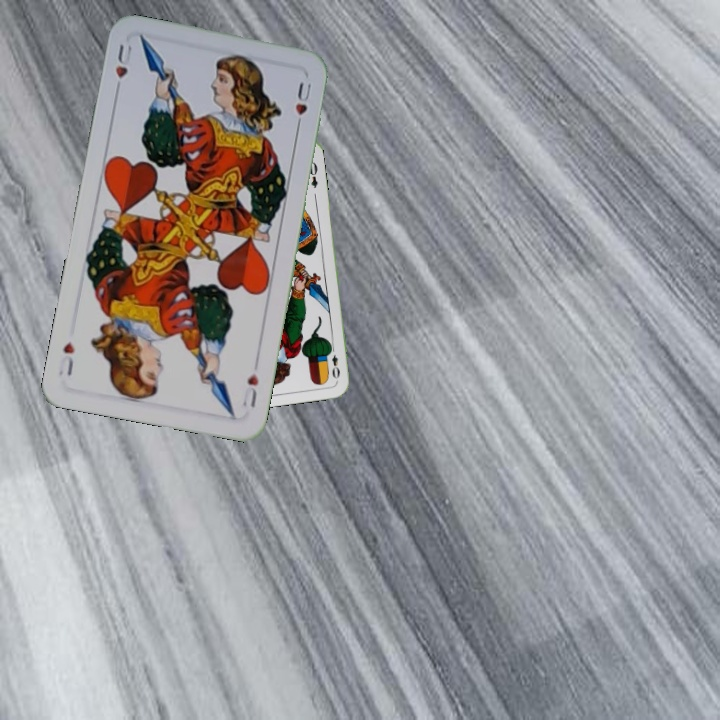EO: (325, 342, 342, 381)
HU: (111, 40, 135, 97), (238, 369, 261, 410)
